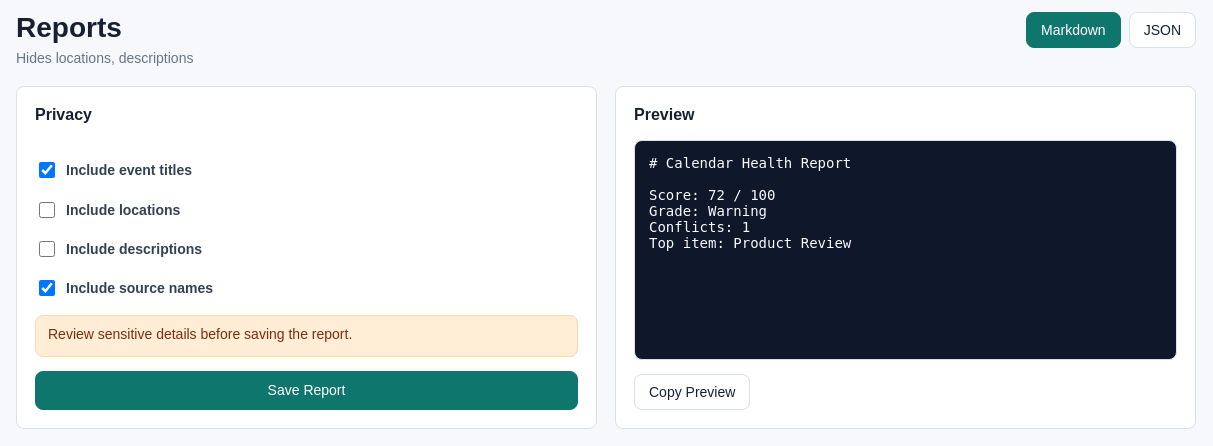
desktop UI › toggles report privacy preview
Expected: the heading "Preview" is shown, [634,106,694,123]
Expected: the text "Top item: Product Review" is shown, [649,155,851,251]
Click the checkbox labelled "Include event titles" at coordinates (47, 170), box [39,162,55,178]
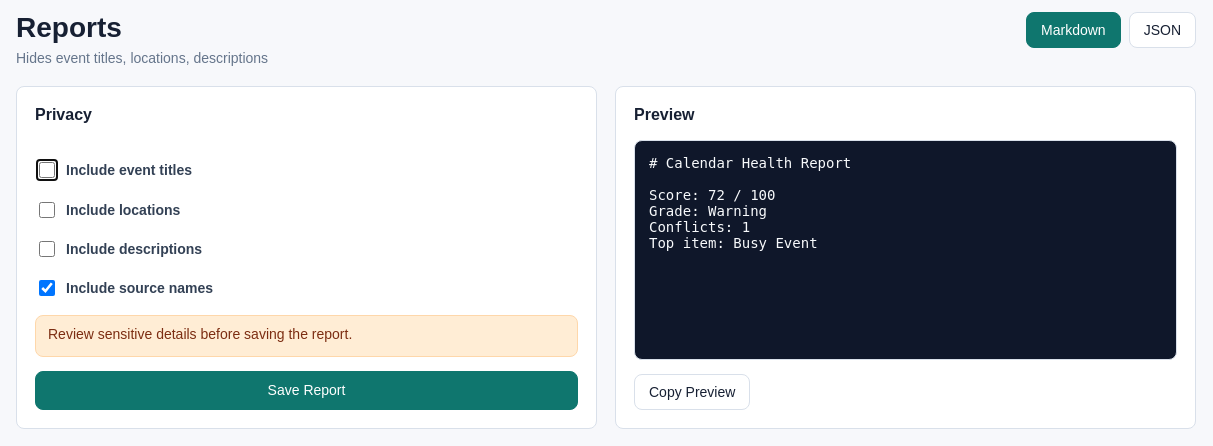
Expected: the text "Top item: Busy Event" is shown, [649,155,851,251]
